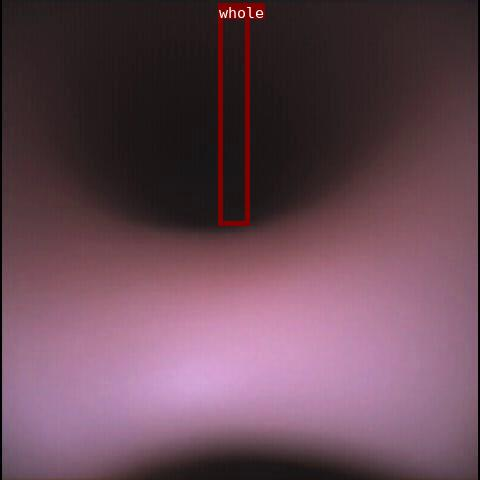whole: (218, 3, 249, 225)
